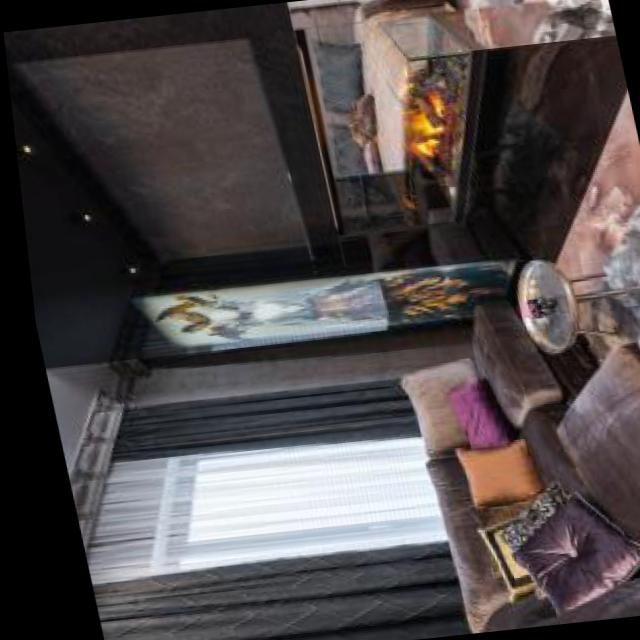Fire: (380, 87, 469, 172)
